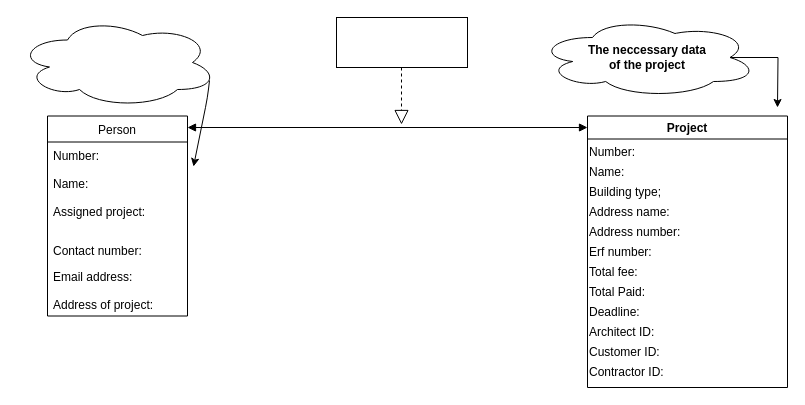
This 805x405 diagram has some shape labels left out. The centre of each missing label's shape, as x and y in pixels:
Class Name of Poised Data Collector: (x=402, y=42)
The neccessary data of the individuals: (x=117, y=62)
